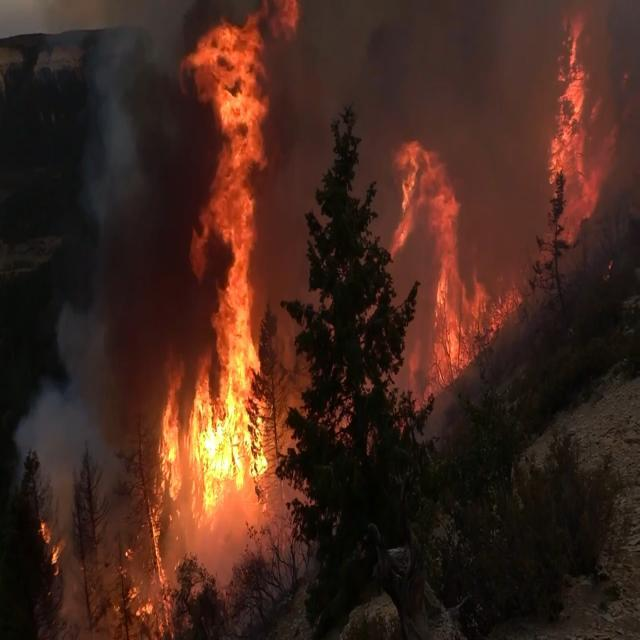Fire: (157, 0, 298, 517), (382, 125, 504, 384), (550, 0, 616, 230)
